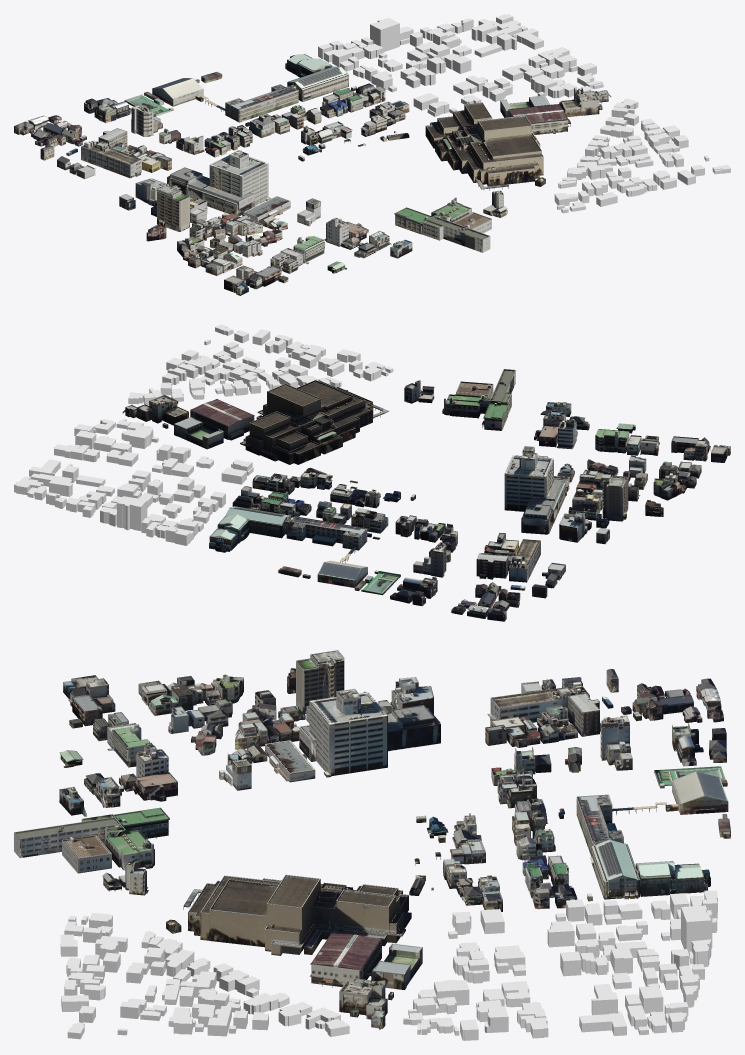
The model's file is 2023-lod3-station-5-2-packed.glb.
The picture shows the model from 3 angles, top to bottom: view 1: azimuth 30°, elevation 25°; view 2: azimuth 150°, elevation 25°; view 3: azimuth 270°, elevation 25°; orthographic projection. The views are drawn at different scales.
Bounding box in the file's own units: 495 × 42.96 × 416.
Materials: 8 (7 with a texture image).
